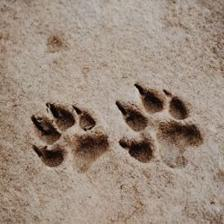dog: (116, 81, 205, 177), (28, 98, 111, 176)
